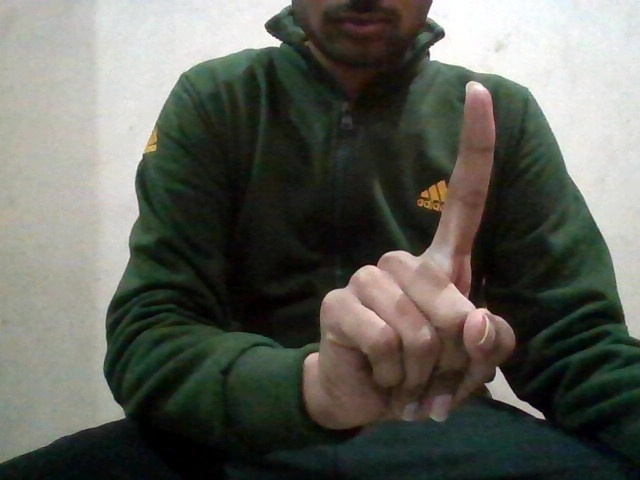D: (316, 77, 519, 428)
